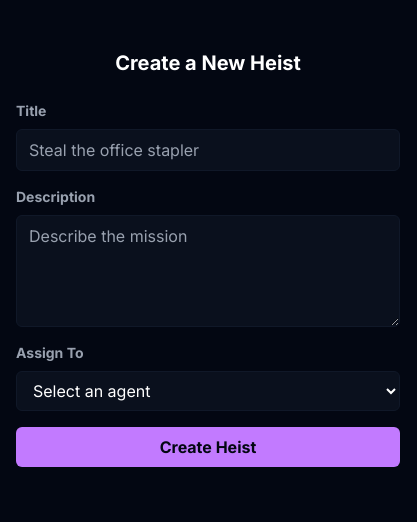
it: CreateHeistPage › shows an error and keeps the input when saving fails
Type "Steal the stapler" into the field labelled "Title" at (208, 150), box [16,129,400,171]
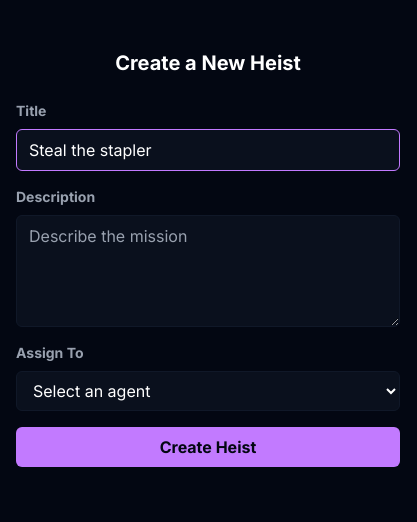
Type "Quietly." into the text box labelled "Description" at (208, 271), box [16,215,400,327]
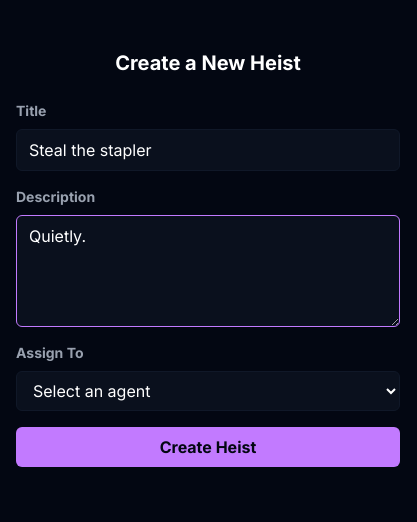
Select "SilentCrimsonFalcon" in the dropdown labelled "Assign To" at (208, 391), box [16,371,400,411]
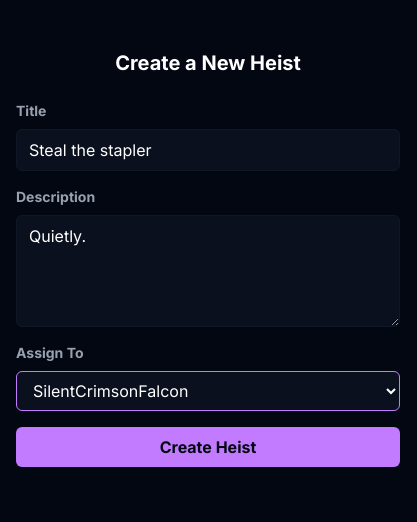
Click the button "Create Heist" at (208, 447), box [16,427,400,467]
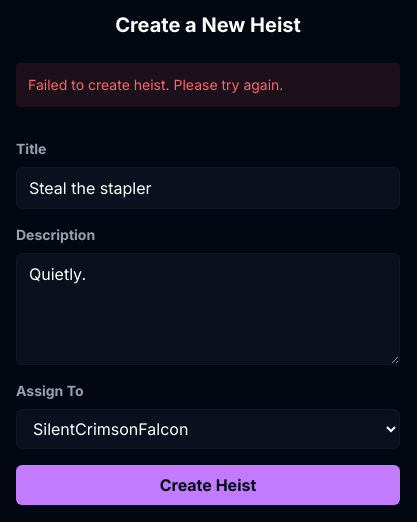
Check: the text "Failed to create heist. Please try again." is shown, box [16,63,400,107]
